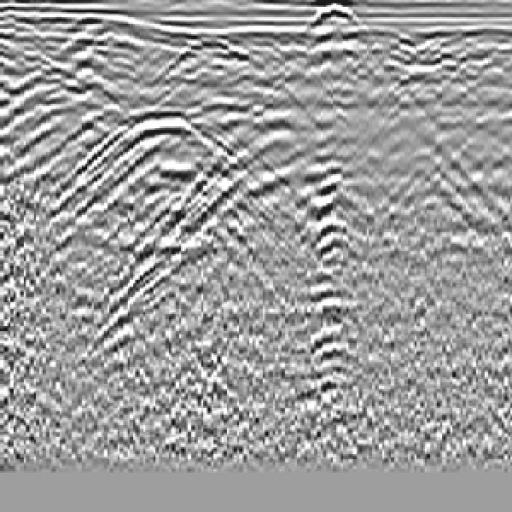non-metallic: (206, 1, 512, 252), (45, 65, 279, 288)
